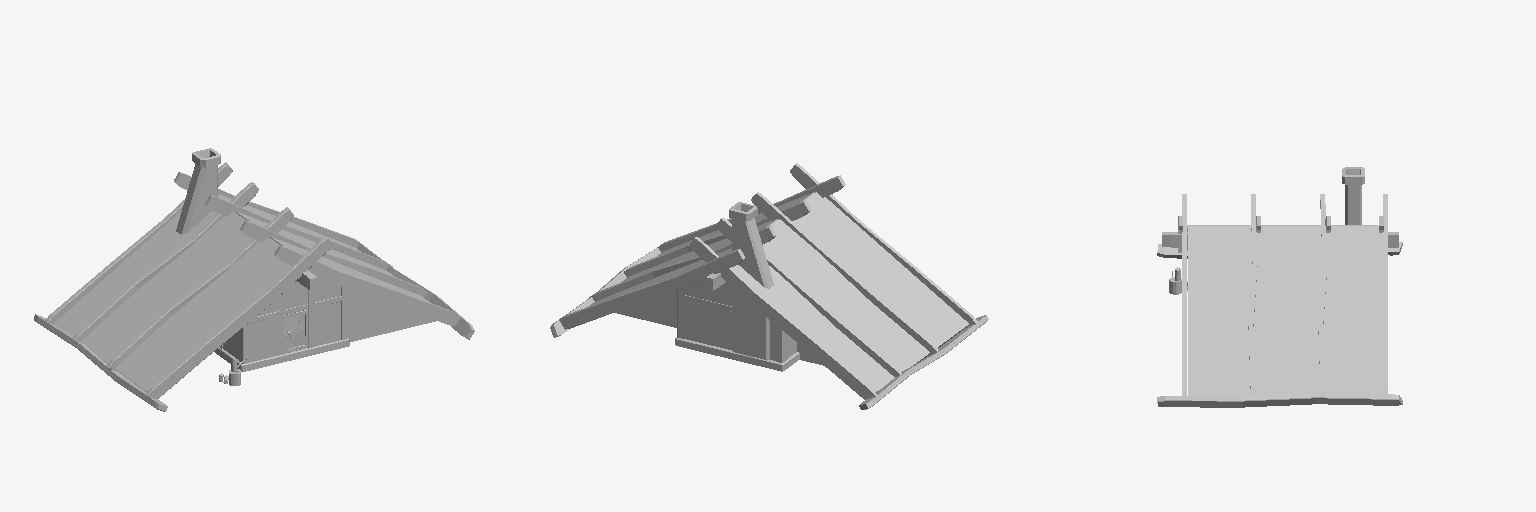
File: dom 1.obj
3 views of the same model, side by side, from view 1: azimuth 30°, elevation 25°; view 2: azimuth 150°, elevation 25°; view 3: azimuth 270°, elevation 25° (orthographic).
Visible parts, largest first — view 1: Куб.001_Куб.000; view 2: Куб.001_Куб.000; view 3: Куб.001_Куб.000.
Part boxes in pixels (bbox=[...]): Куб.001_Куб.000: bbox=[34, 148, 474, 411]; Куб.001_Куб.000: bbox=[550, 163, 988, 409]; Куб.001_Куб.000: bbox=[1157, 167, 1402, 407].
Bounding box in the file's own units: 11.93 × 5.48 × 7.8.